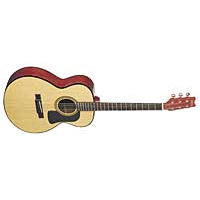guitar: (3, 66, 196, 134)
